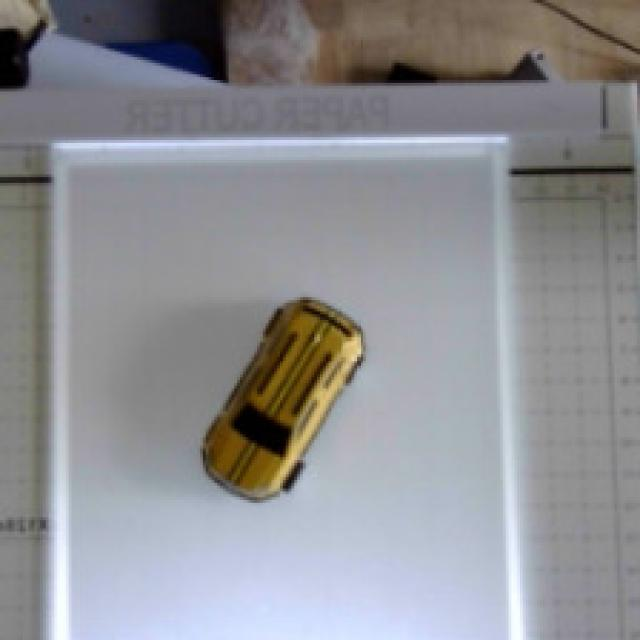Yellow Car: (152, 286, 399, 533)
